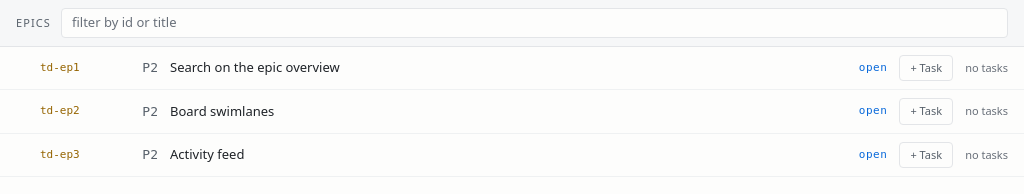
Scenario: EpicList › search box › clears with the button and gives the focus back to the box
The width and height of the screenshot is (1024, 194).
Type "swim" into the search field named "Search epics" at (534, 23), box [61,8,1008,38]
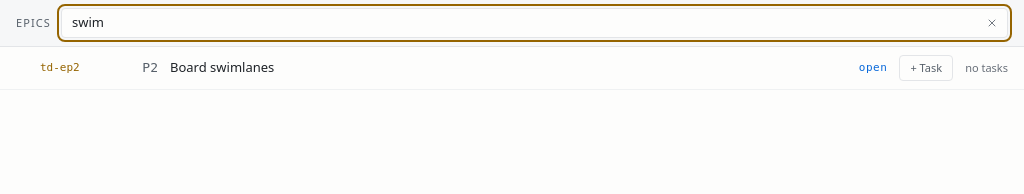
Click the button named "Clear search" at (992, 23), box [982,13,1002,33]
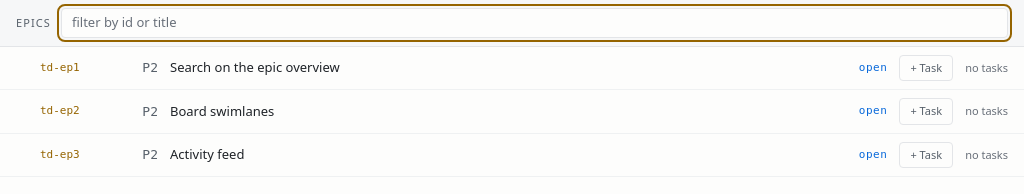
Check: the search field named "Search epics" is empty, box [61,8,1008,38]
